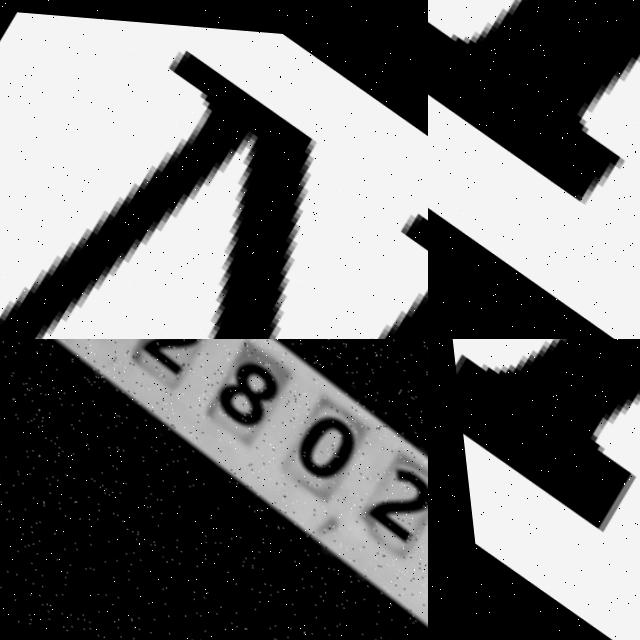0: (241, 358, 396, 514)
2: (315, 411, 428, 567), (96, 339, 239, 400)
3: (390, 470, 428, 625)
8: (161, 339, 320, 463)
A: (428, 339, 640, 640)
N: (0, 0, 428, 339)
R: (428, 0, 640, 339)
